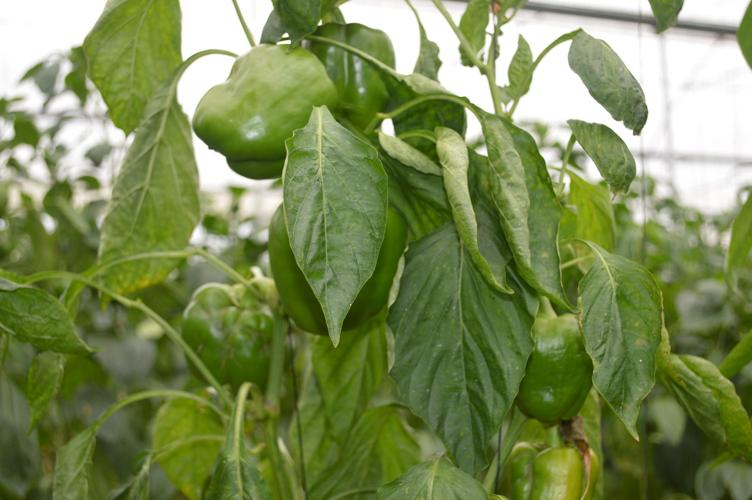BellPepper: (182, 43, 343, 196), (264, 194, 416, 339), (173, 276, 300, 408), (511, 300, 605, 433), (308, 19, 396, 131), (496, 431, 599, 500)
